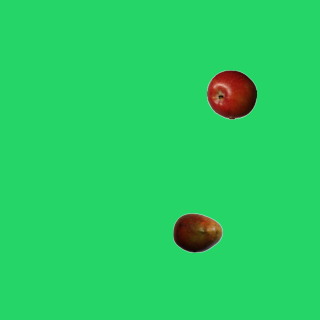Apple Braeburn: (206, 69, 256, 119)
Mango Red: (172, 207, 222, 257)
